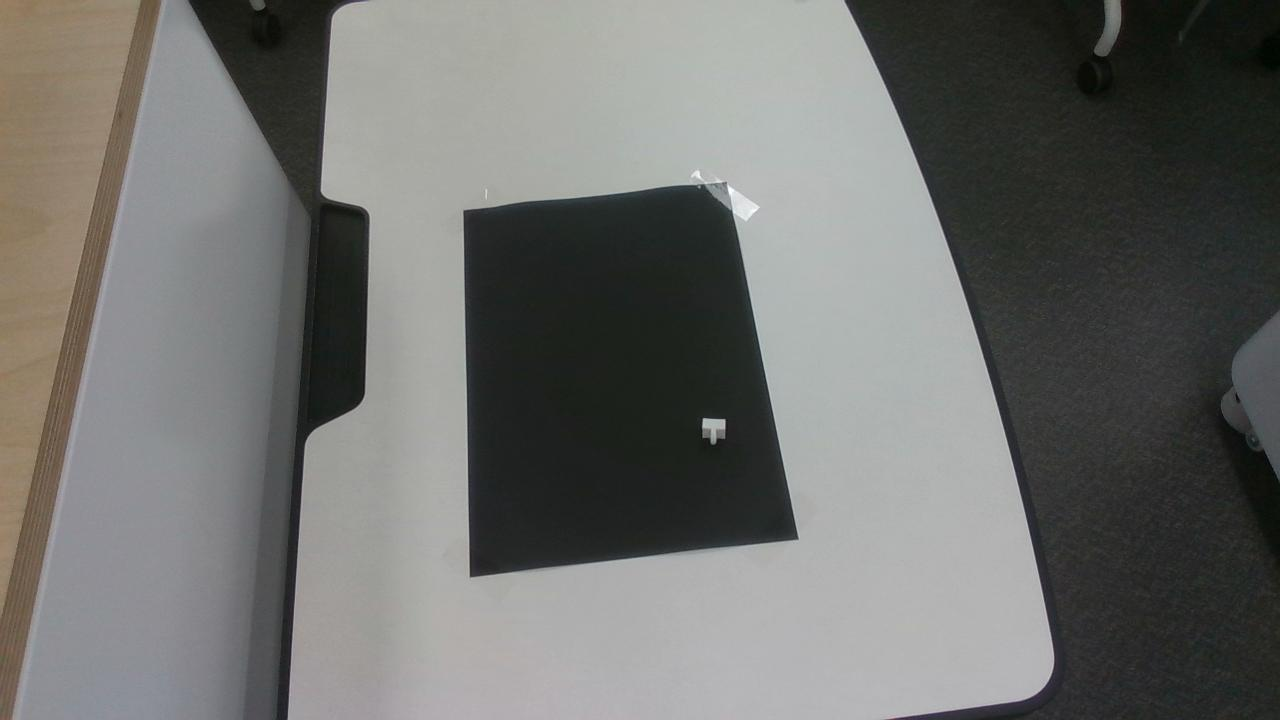cube: (702, 418, 725, 445)
